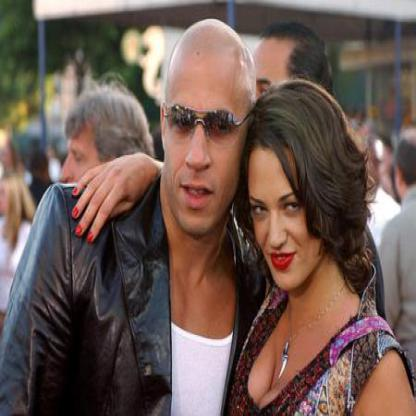face: (165, 22, 248, 236), (239, 96, 327, 292)
